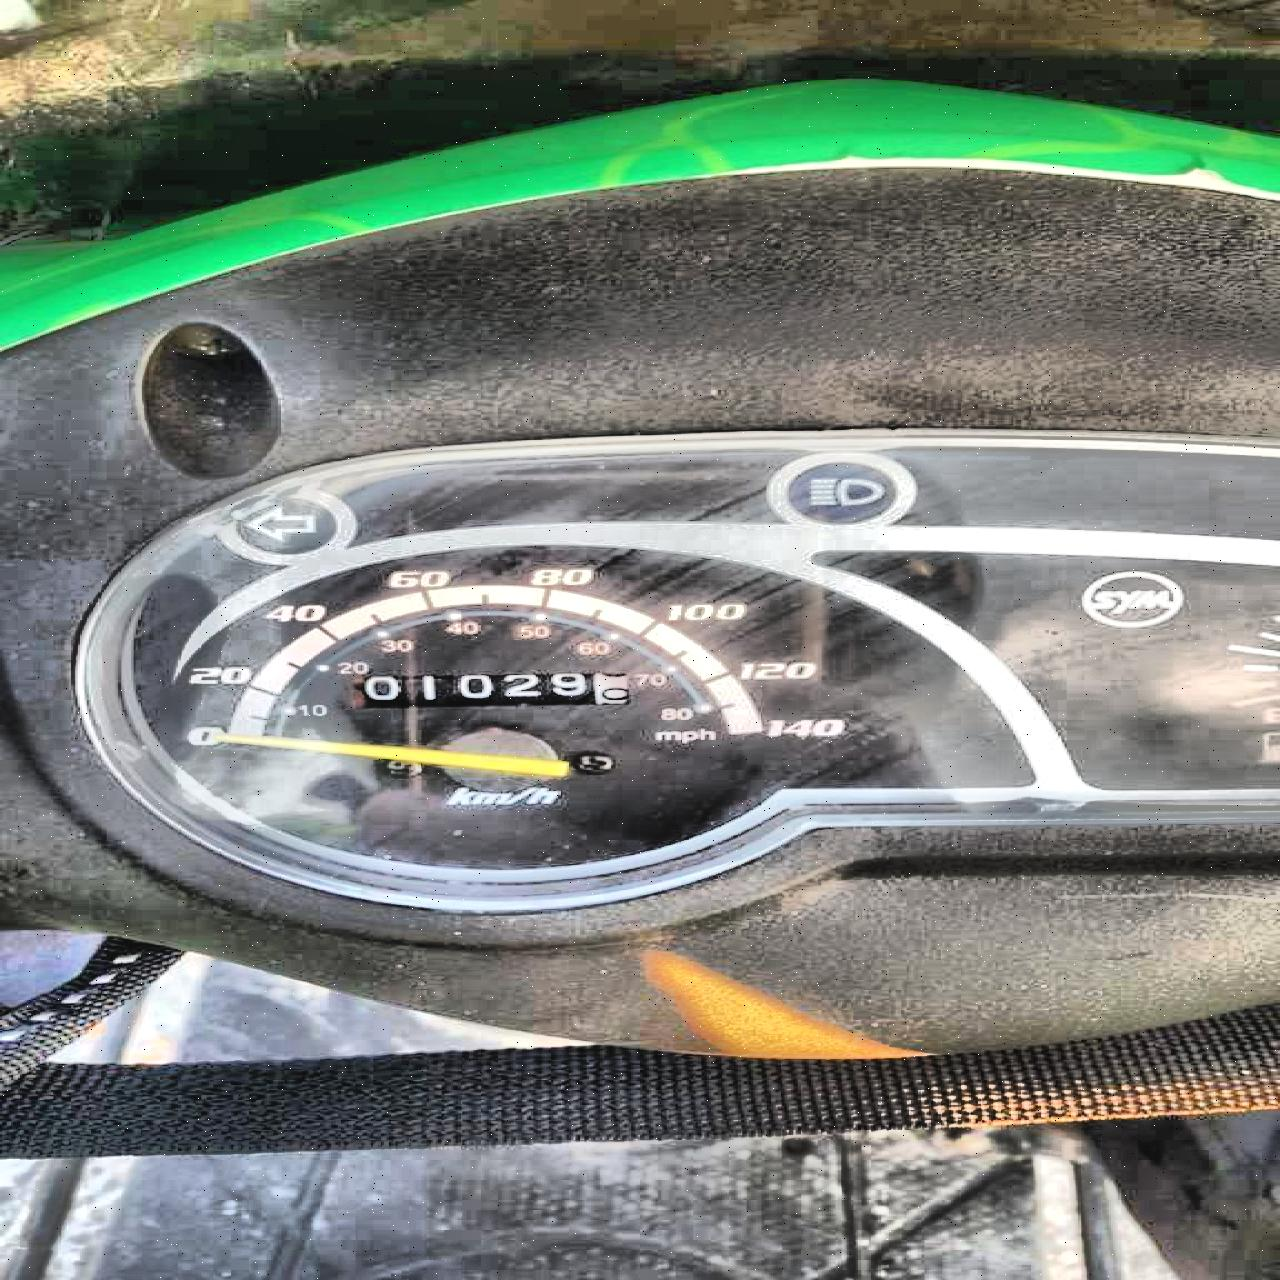0: (360, 675, 400, 701), (454, 674, 493, 699)
1: (414, 674, 440, 701)
2: (501, 673, 540, 696)
9: (547, 672, 588, 696), (595, 685, 626, 704)
odometer: (342, 669, 633, 710)
